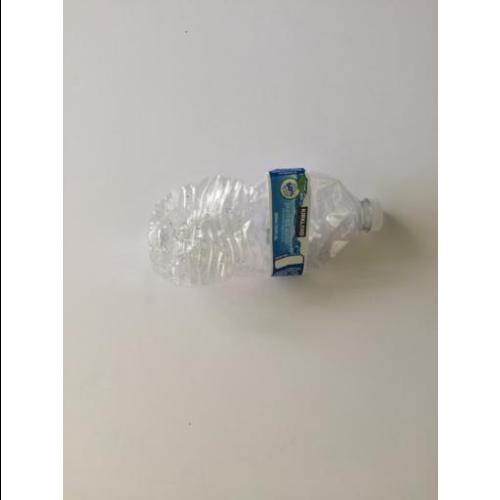plastic: (148, 167, 388, 288)
